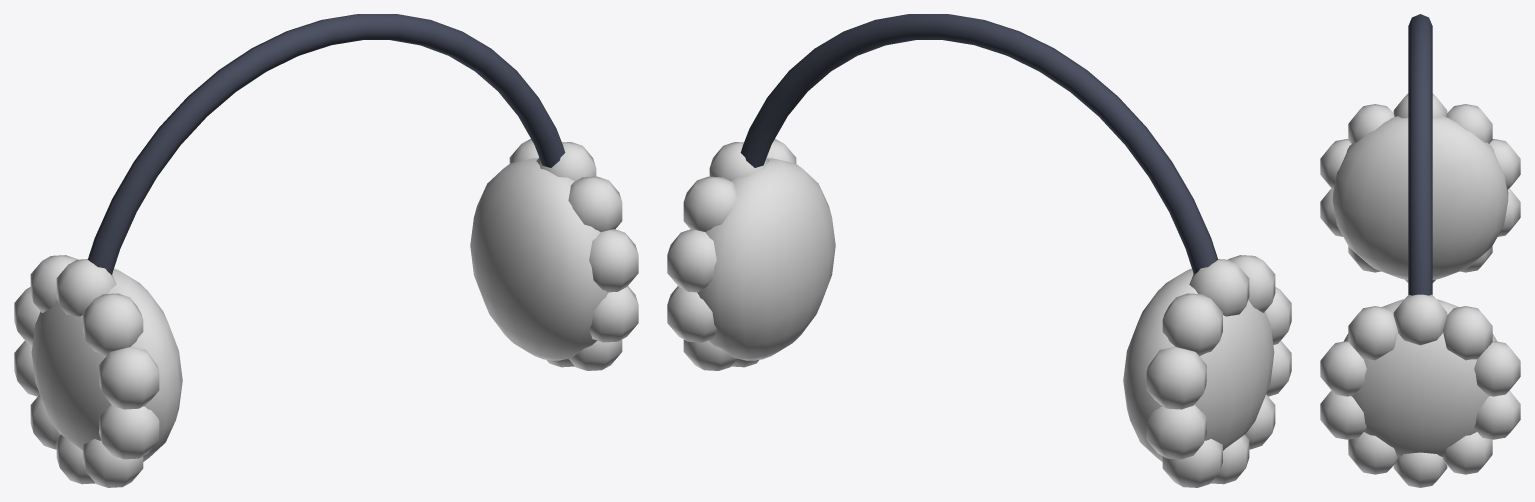
The model's file is earmuffs.glb.
3 views of the same model, side by side, from view 1: azimuth 30°, elevation 25°; view 2: azimuth 150°, elevation 25°; view 3: azimuth 270°, elevation 25° (orthographic). The views are drawn at different scales.
Visible parts, largest first — view 1: earmuffs; view 2: earmuffs; view 3: earmuffs.
Part boxes in pixels (bbox=[...]): earmuffs: bbox=[14, 14, 638, 487]; earmuffs: bbox=[667, 14, 1291, 487]; earmuffs: bbox=[1320, 14, 1520, 487].
Size of the model in its own units: 1.35 by 0.95 by 0.4945.
